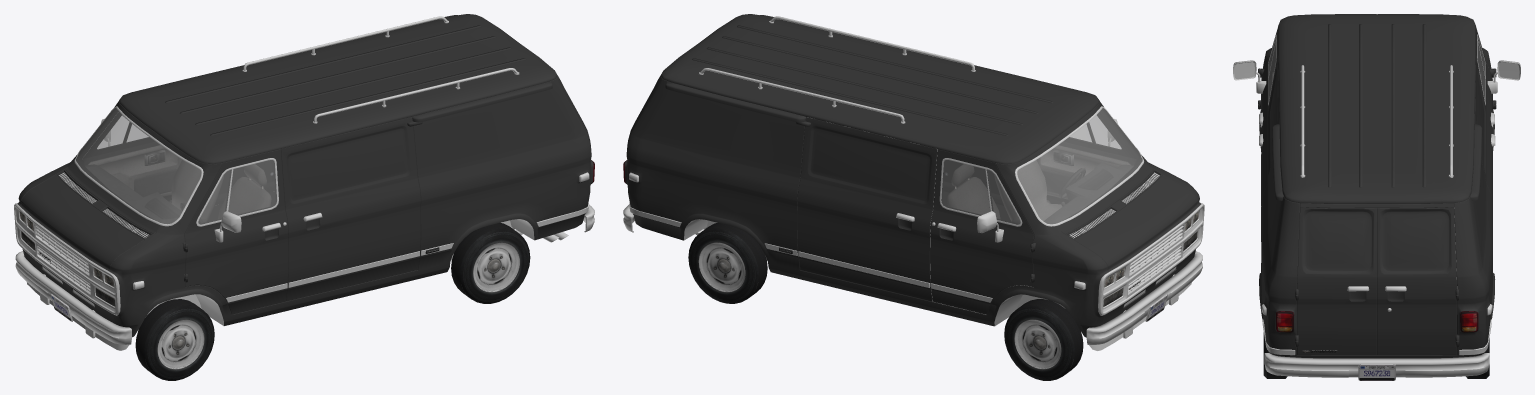
Rendered from OldPanelvan.fbx.
3 renders of one model, left to right at view 1: azimuth 30°, elevation 25°; view 2: azimuth 150°, elevation 25°; view 3: azimuth 270°, elevation 25°, orthographic. The views are drawn at different scales.
Parts seen in each view (by area): view 1: Body, Door_RL, Door_FL, Front_glass, Hood, Wheel_FL, Wheel_RL, Doorcard_FR, Grill, Glass_Door_FL, Seats, Bumper_front (+10 smaller); view 2: Body, Door_RR, Door_FR (×2), Front_glass, Hood, Wheel_FR, Wheel_RR, Grill, Doorcard_FL, Seats, Glass_Door_FR, Bumper_front (+9 smaller); view 3: Body, Trunkdoor_Right, Trunkdoor_Left, Bumper_rear, Detaling, Door_RL, Door_RR, Roof_rails, Numberplate_rear, Sidemirror_Left, Sidemirror_Right, Door_FL (+8 smaller).
Boxes of the visible parts, x1,y1,x2,y2 form: Body: [17, 14, 593, 337]; Door_RL: [281, 116, 422, 301]; Door_FL: [184, 149, 288, 314]; Front_glass: [76, 108, 201, 223]; Hood: [20, 175, 144, 271]; Wheel_FL: [135, 299, 214, 380]; Wheel_RL: [451, 222, 530, 303]; Doorcard_FR: [82, 112, 181, 201]; Grill: [14, 203, 120, 315]; Glass_Door_FL: [198, 160, 276, 224]; Seats: [169, 160, 271, 223]; Bumper_front: [15, 251, 131, 344]; Body: [624, 14, 1201, 337]; Door_RR: [795, 117, 937, 301]; Door_FR (×2): [930, 149, 1034, 314]; Front_glass: [1017, 108, 1142, 224]; Hood: [1074, 175, 1198, 271]; Wheel_FR: [1004, 299, 1083, 380]; Wheel_RR: [688, 223, 767, 303]; Grill: [1098, 203, 1204, 315]; Doorcard_FL: [1037, 112, 1136, 204]; Seats: [947, 160, 1062, 223]; Glass_Door_FR: [941, 160, 1020, 224]; Bumper_front: [1086, 251, 1202, 344]; Body: [1259, 14, 1495, 358]; Trunkdoor_Right: [1377, 207, 1457, 354]; Trunkdoor_Left: [1297, 207, 1376, 354]; Bumper_rear: [1264, 353, 1489, 380]; Detaling: [1258, 68, 1496, 346]; Door_RL: [1261, 56, 1279, 205]; Door_RR: [1474, 56, 1492, 203]; Roof_rails: [1300, 65, 1453, 177]; Numberplate_rear: [1358, 364, 1395, 380]; Sidemirror_Left: [1233, 60, 1266, 93]; Sidemirror_Right: [1487, 60, 1520, 93]; Door_FL: [1261, 26, 1278, 133].
Bounding box in the file's own units: 193 × 92.47 × 80.53.
